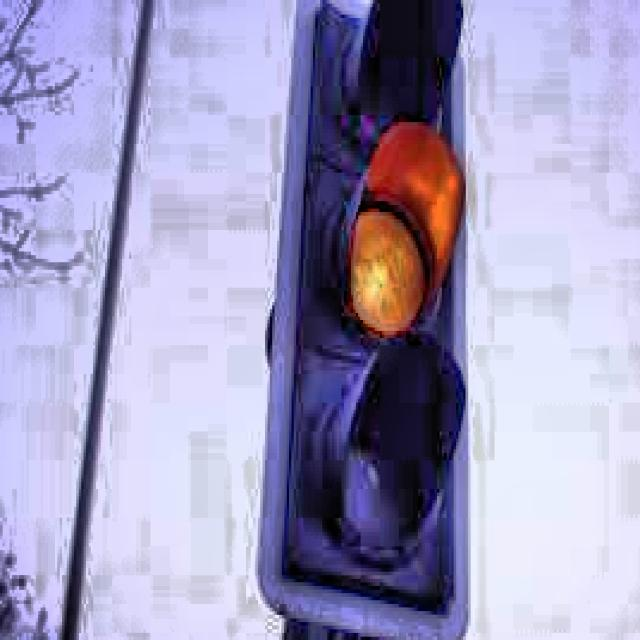yellow: (305, 0, 467, 617)
